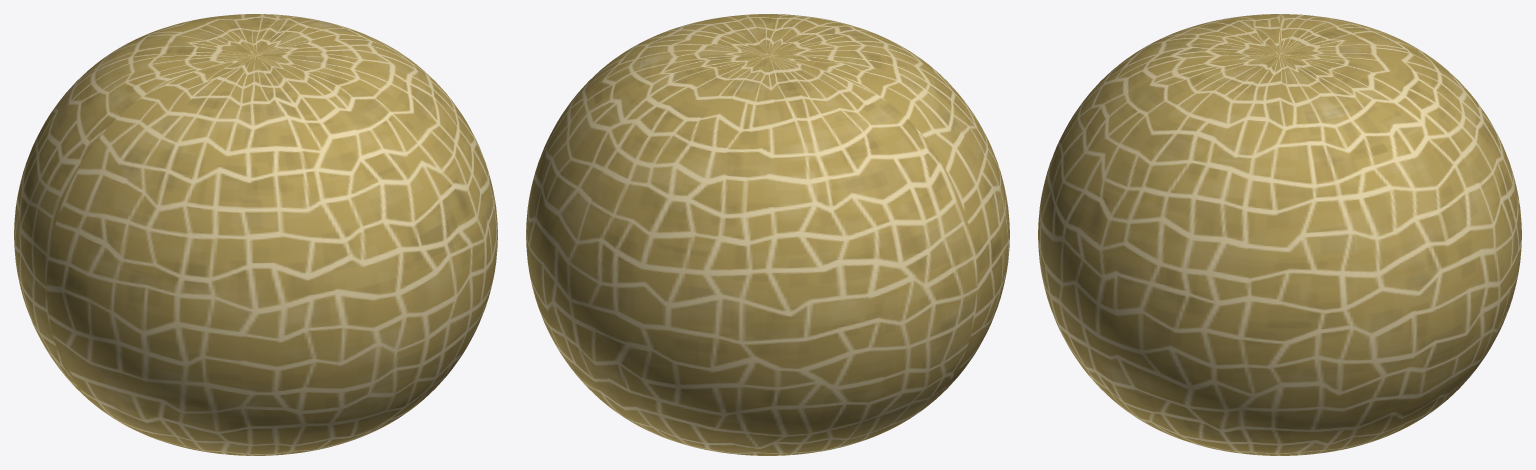
File: cantaloupe.glb
3 renders of one model, left to right at view 1: azimuth 30°, elevation 25°; view 2: azimuth 150°, elevation 25°; view 3: azimuth 270°, elevation 25°, orthographic.
Bounding box in the file's own units: 0.17 × 0.1394 × 0.17.
1 material, 1 textured.
